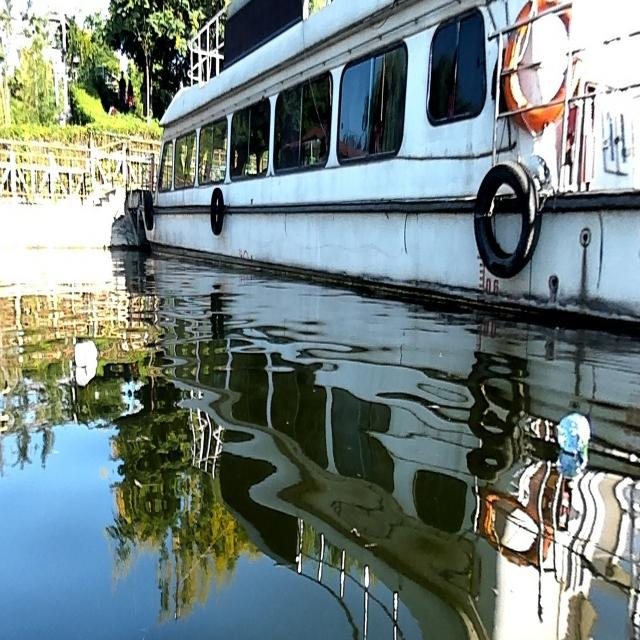bottle: (551, 411, 593, 440), (73, 333, 99, 368)
